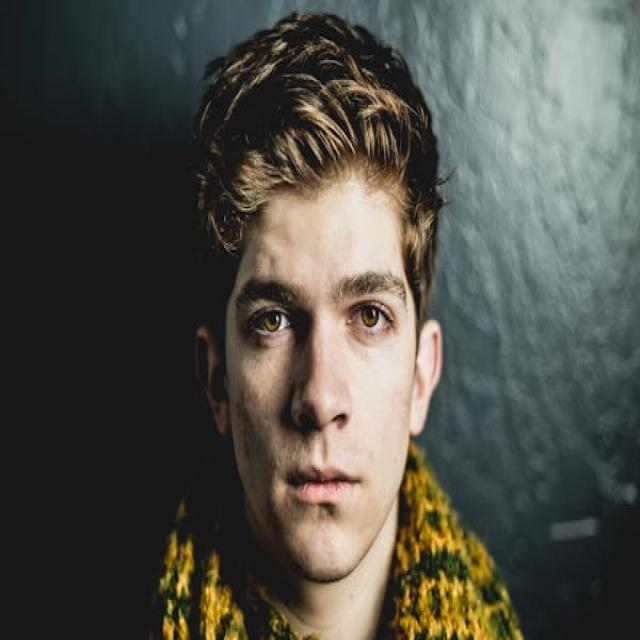no_mask: (171, 53, 460, 640)
